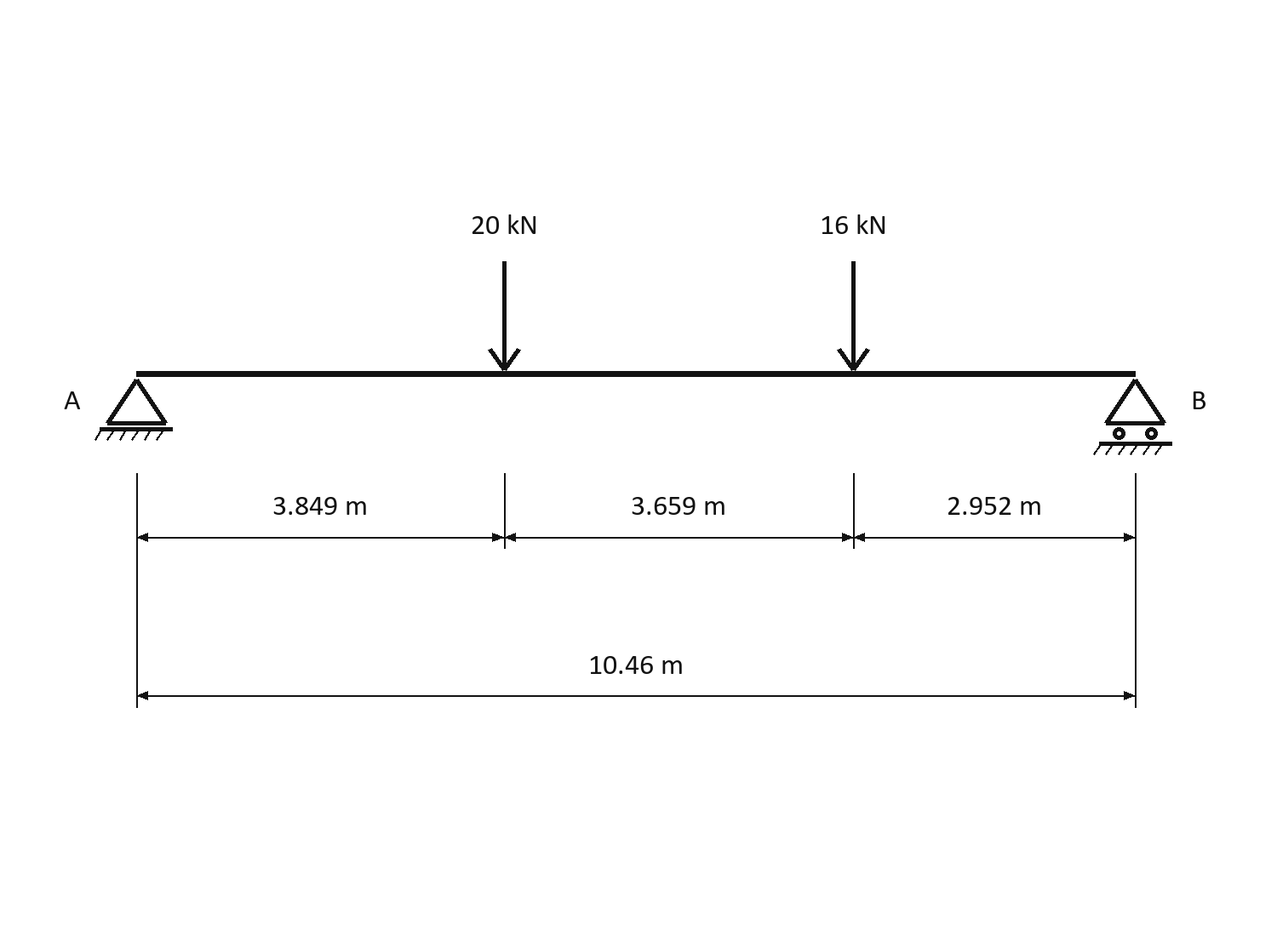pin_support: (94, 379, 173, 441)
point_load: (488, 261, 521, 371), (837, 261, 870, 371)
roller_support: (1093, 379, 1172, 455)
